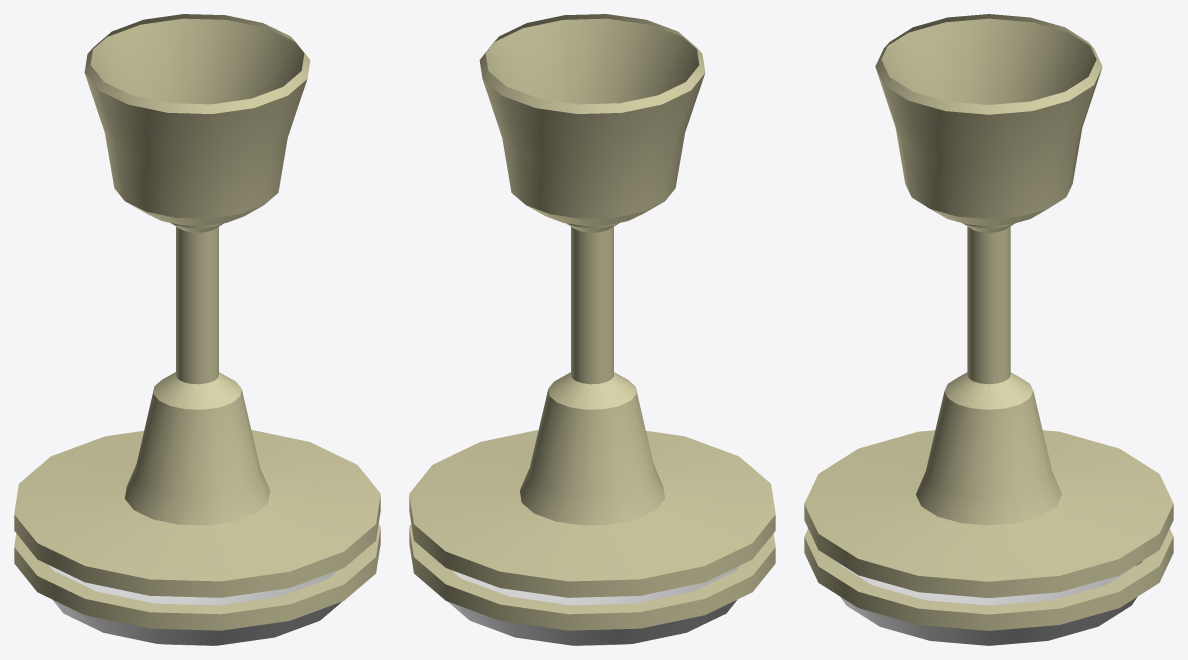
File: Ventilador.fbx
3 renders of one model, left to right at view 1: azimuth 30°, elevation 25°; view 2: azimuth 150°, elevation 25°; view 3: azimuth 270°, elevation 25°, orthographic.
Visible parts, largest first — view 1: CuerpoVentilador; view 2: CuerpoVentilador; view 3: CuerpoVentilador.
Boxes of the visible parts, <box> form: CuerpoVentilador: <box>14,14,380,645</box>; CuerpoVentilador: <box>409,14,775,645</box>; CuerpoVentilador: <box>804,14,1173,645</box>.
Size of what is drawn, in the model's own units: 29.6 by 49.48 by 29.6.
